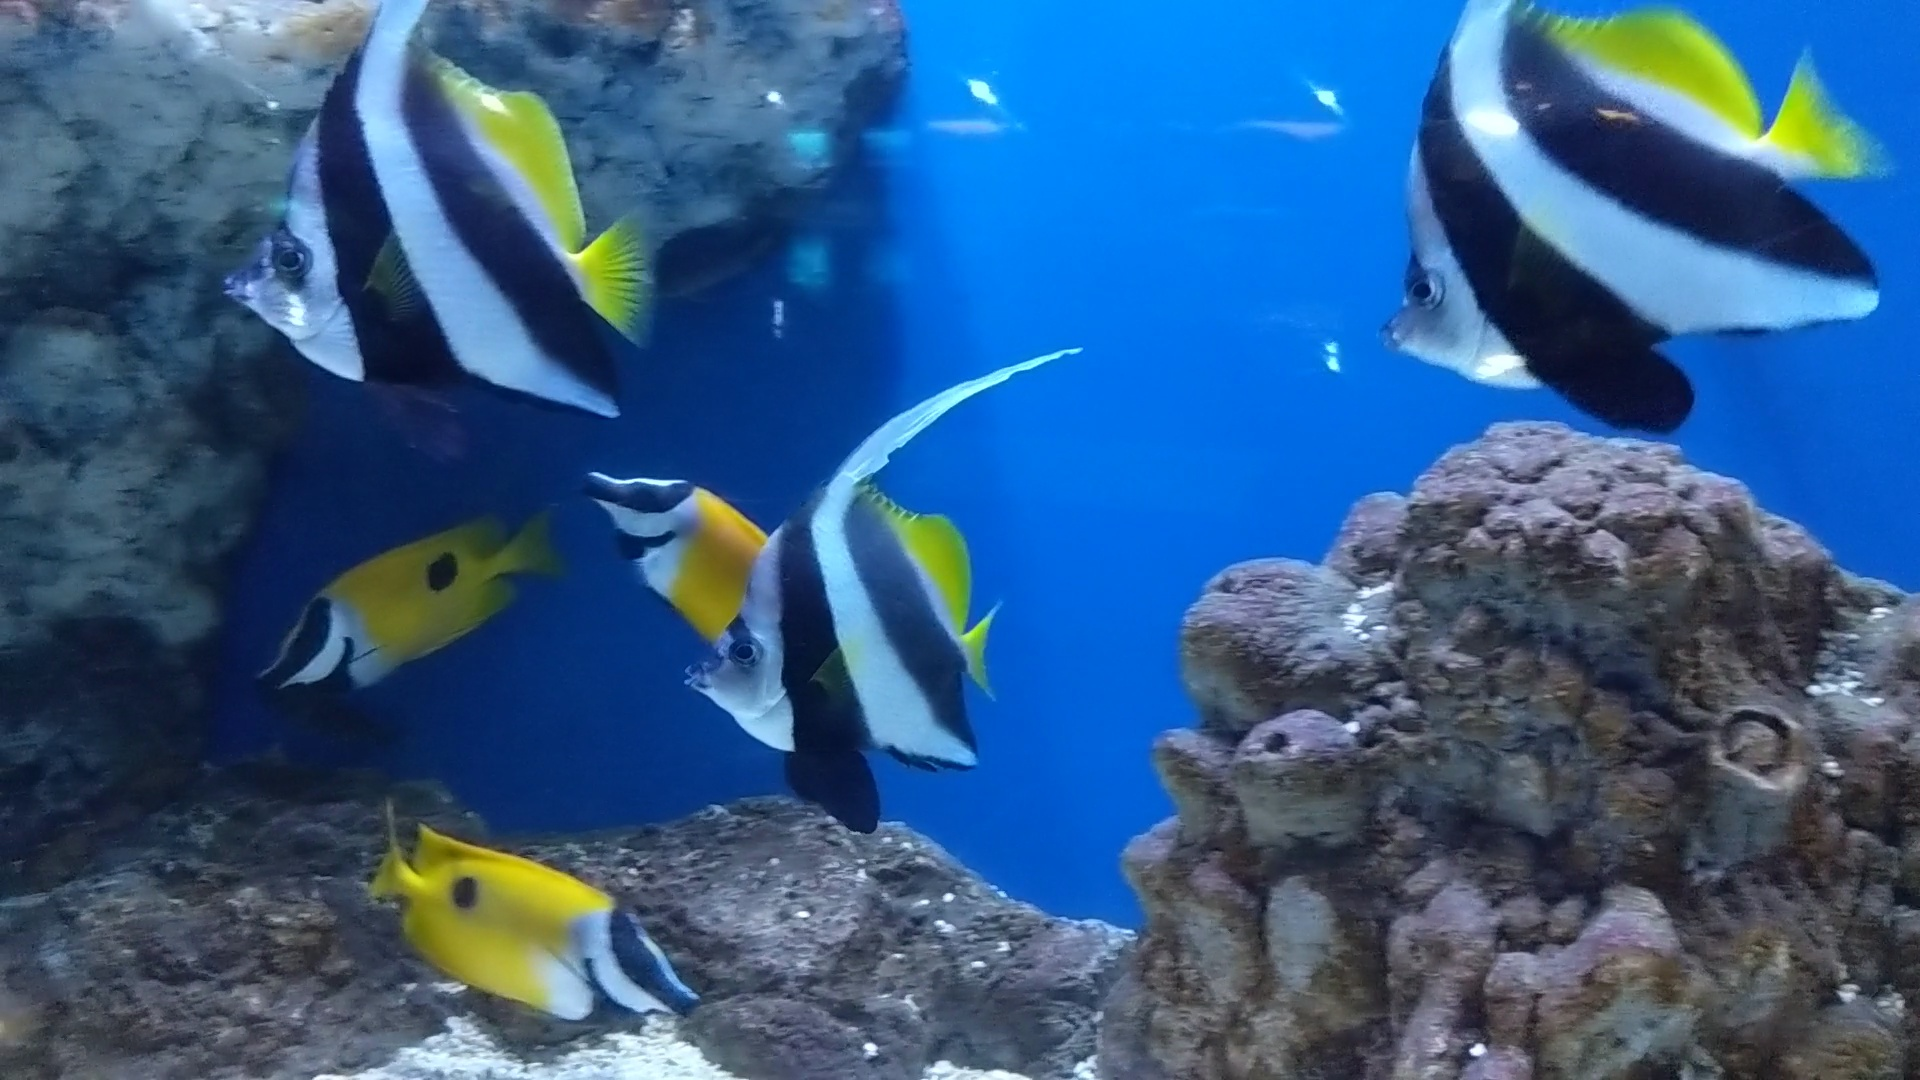moorfish: (1369, 11, 1892, 425), (224, 3, 669, 421), (669, 390, 1052, 781)
rabbitfish: (363, 796, 704, 1040), (204, 534, 568, 727), (564, 460, 773, 626)
